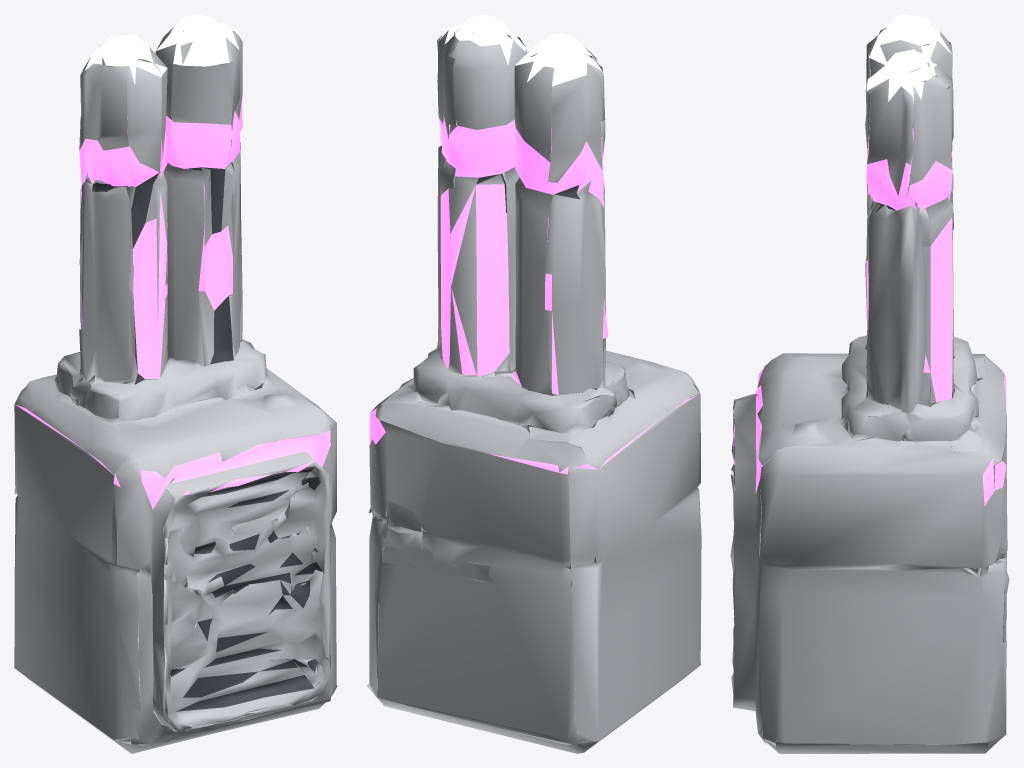
File: SM_Oxygen_v1_slots.fbx
3 renders of one model, left to right at view 1: azimuth 30°, elevation 25°; view 2: azimuth 150°, elevation 25°; view 3: azimuth 270°, elevation 25°, orthographic. The views are drawn at different scales.
Visible parts, largest first — view 1: SM_Oxygen; view 2: SM_Oxygen; view 3: SM_Oxygen.
Part boxes in pixels (x1,y1,x2,y2): SM_Oxygen: [14, 14, 337, 753]; SM_Oxygen: [366, 14, 701, 753]; SM_Oxygen: [730, 14, 1009, 753].
Size of the model in its own units: 0.3391 by 0.94 by 0.3558.
